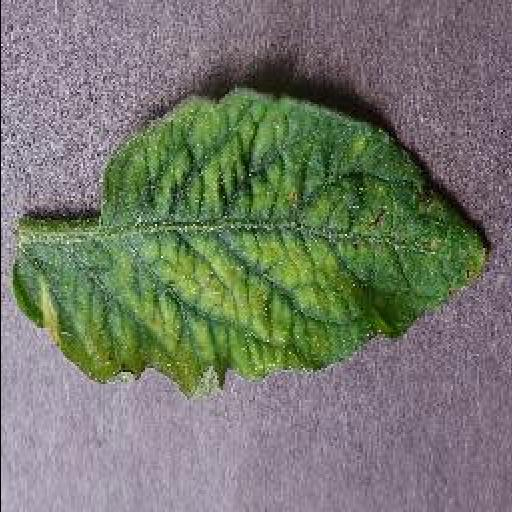disease_tomato: (10, 80, 490, 398)
